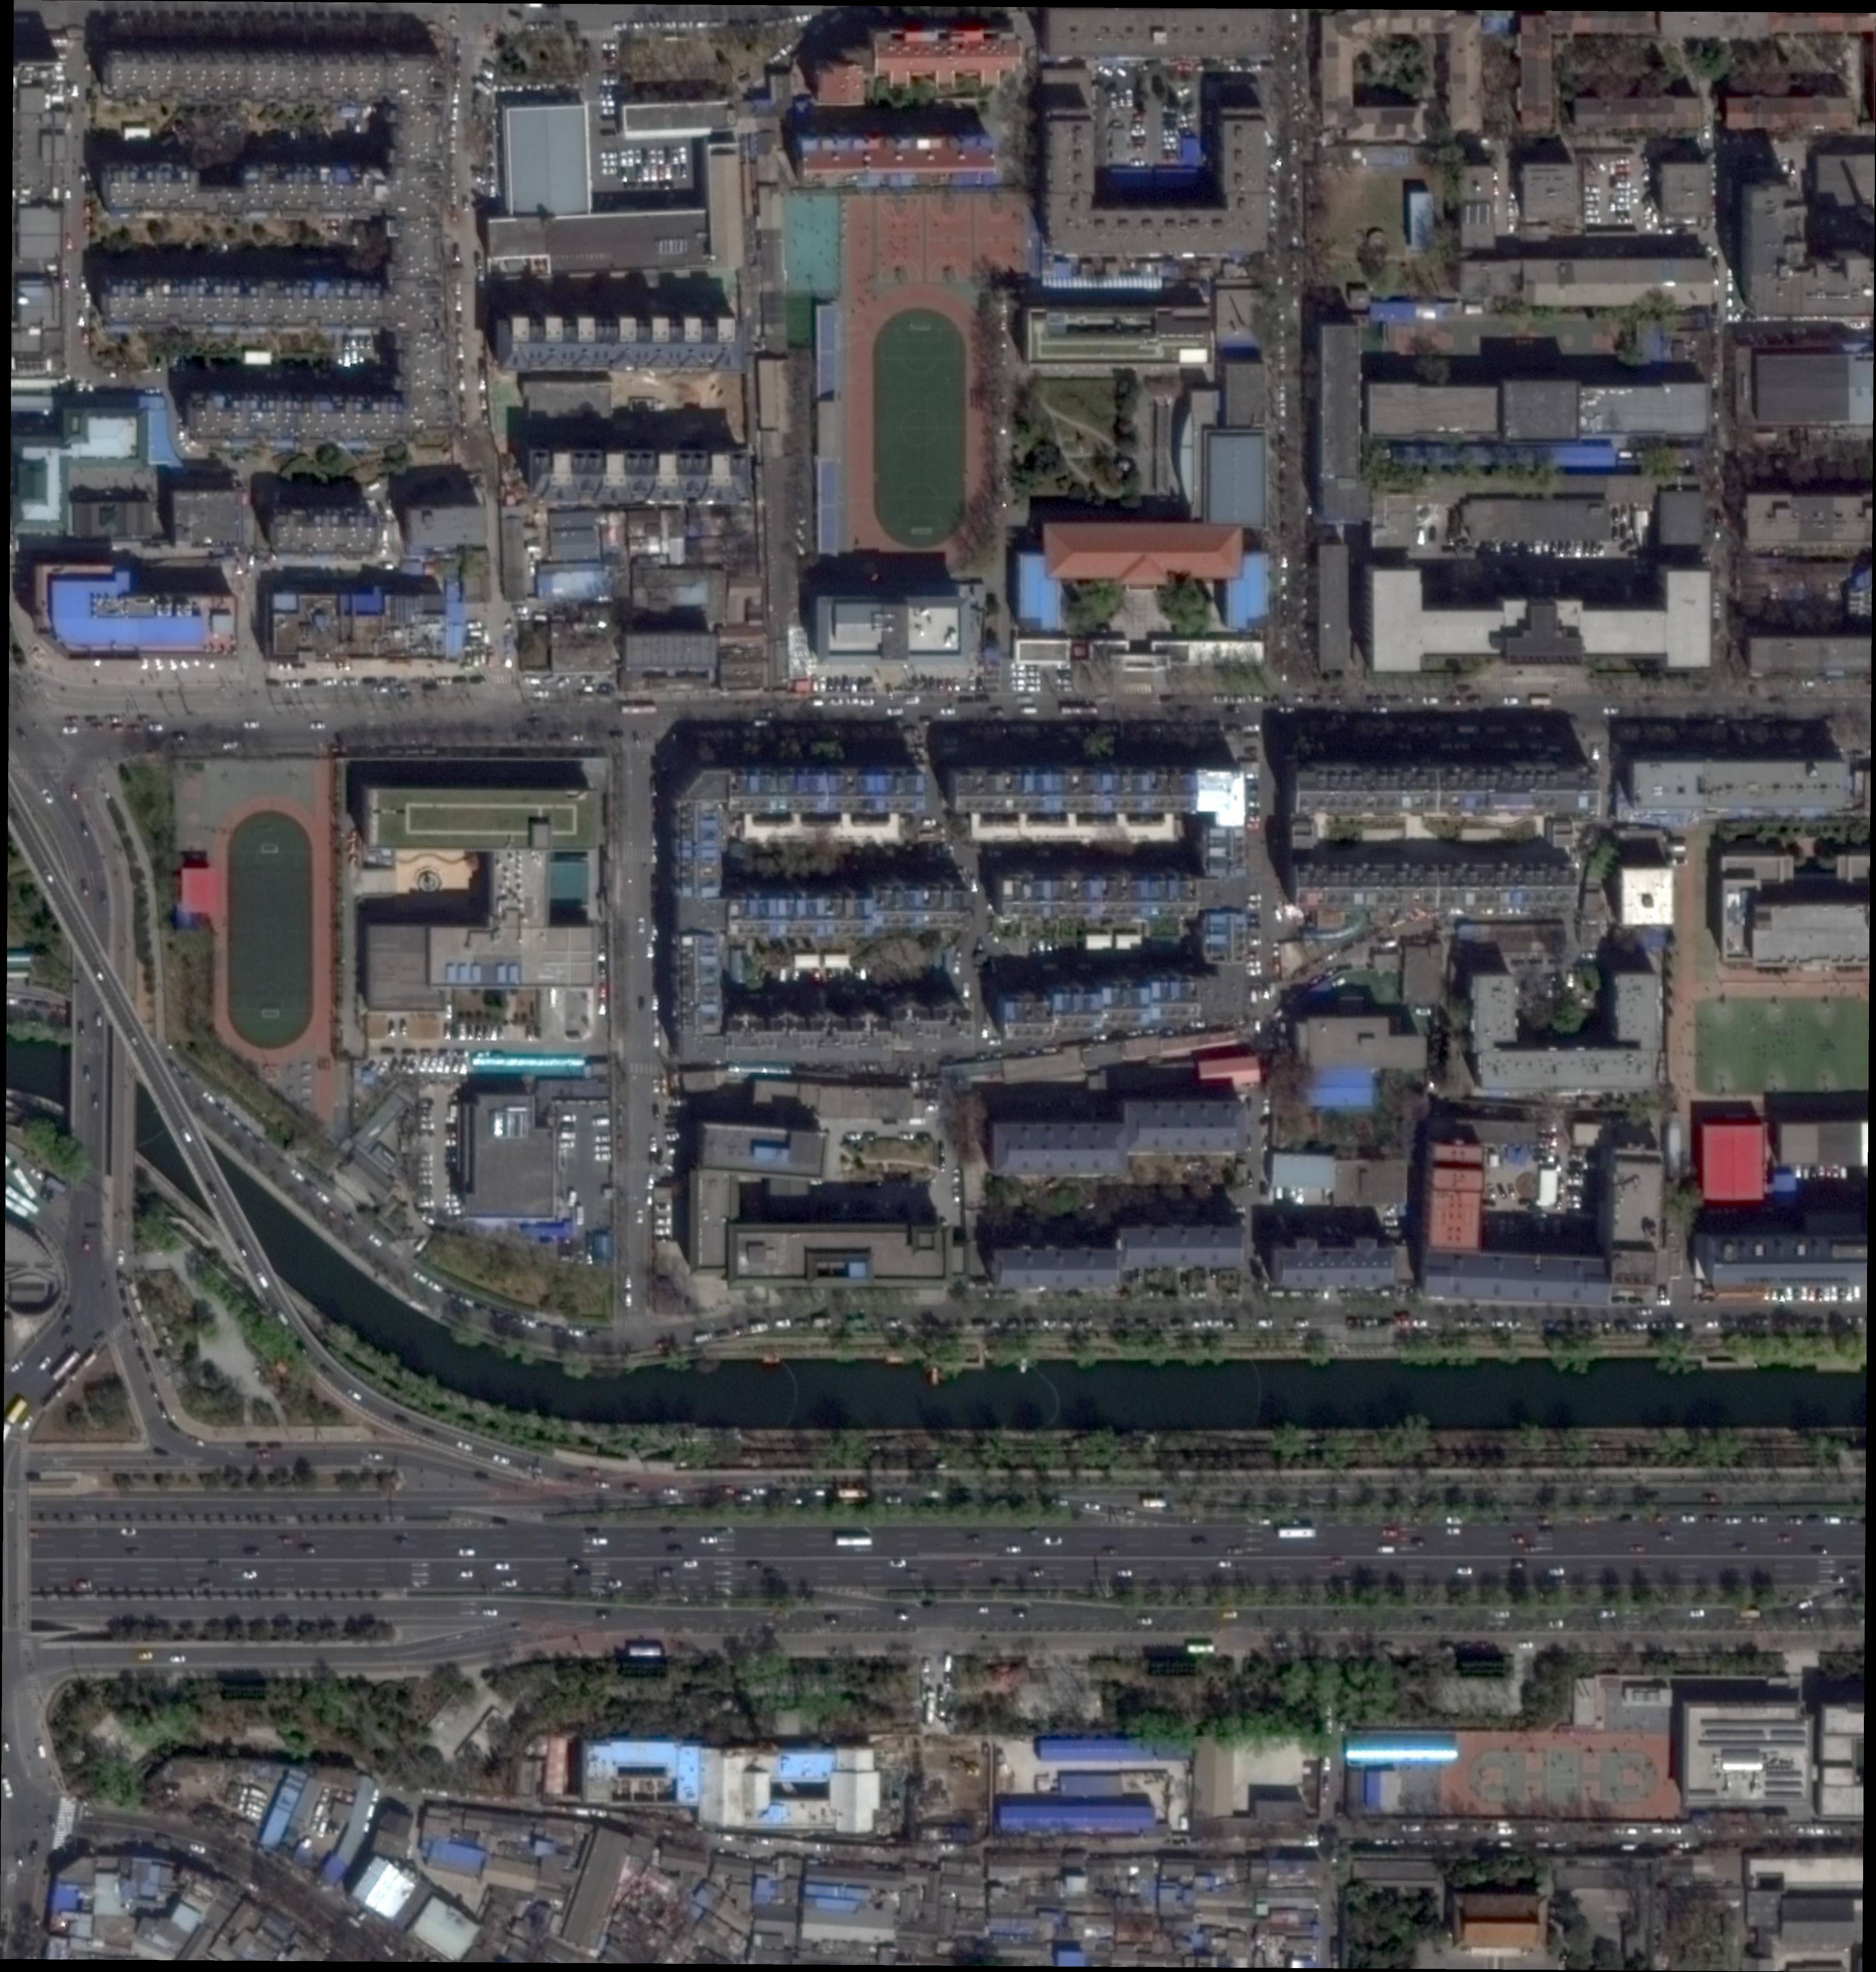basketball court: (973, 195, 1021, 283), (926, 195, 971, 285), (878, 197, 924, 283), (176, 780, 213, 852)
ground track field: (841, 192, 993, 578), (202, 759, 333, 1118)
soccer ball field: (880, 327, 959, 533), (234, 852, 311, 1012)
